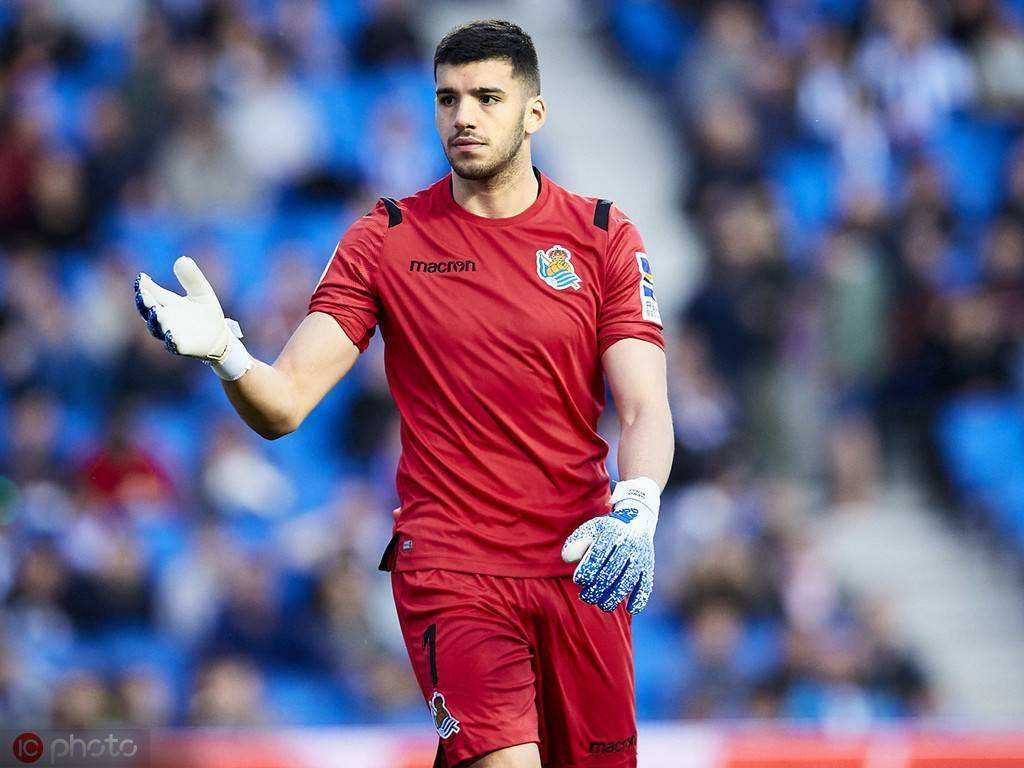no-phone: (557, 489, 659, 616)
